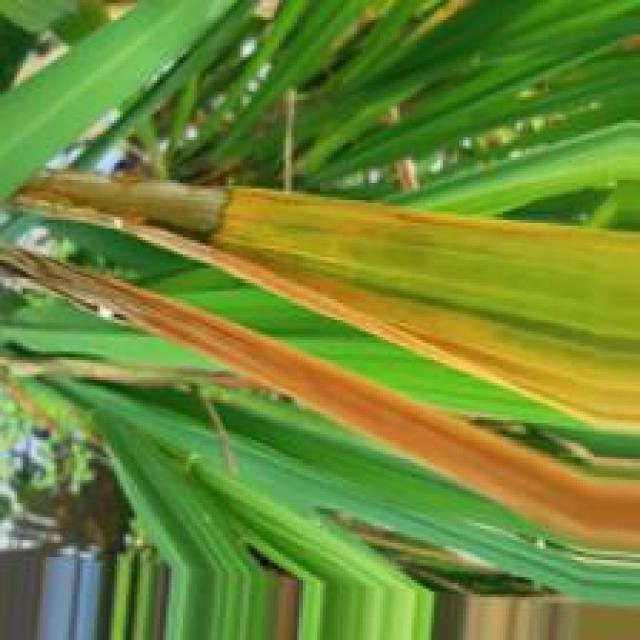Rice False Smut: (35, 254, 636, 539), (100, 179, 517, 383)
